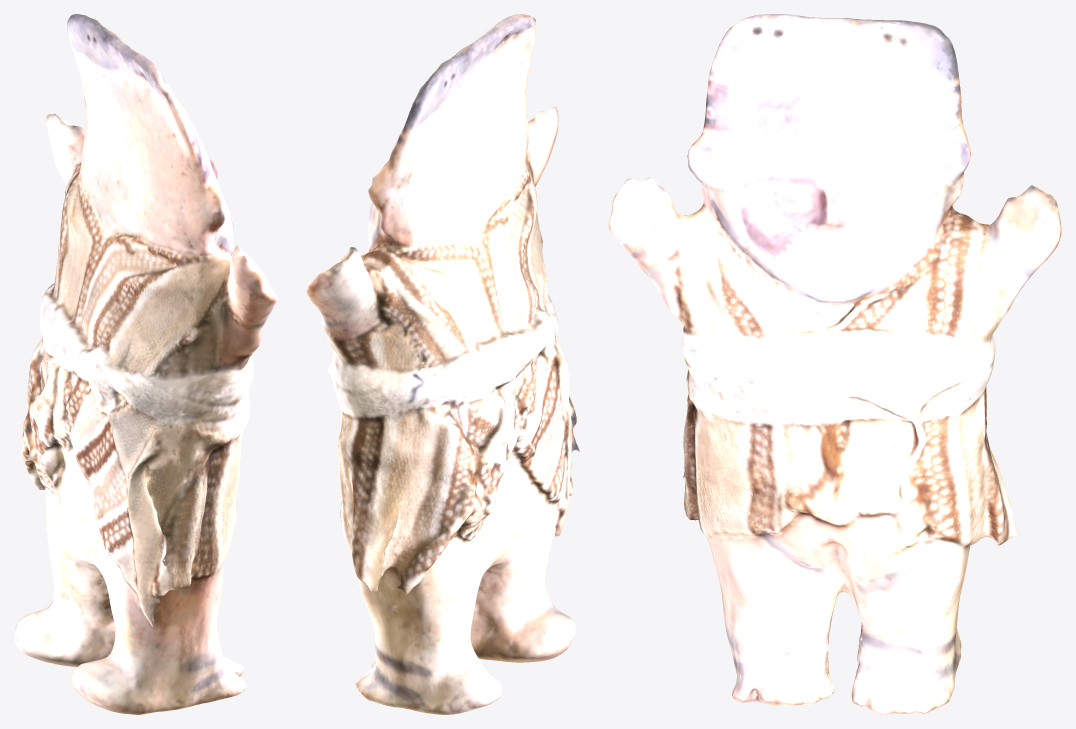
The picture shows the model from 3 angles, left to right: view 1: azimuth 30°, elevation 25°; view 2: azimuth 150°, elevation 25°; view 3: azimuth 270°, elevation 25°; orthographic projection. The views are drawn at different scales.
Parts seen in each view (by area): view 1: Object_2; view 2: Object_2; view 3: Object_2.
Part boxes in pixels (<box>): Object_2: <box>14,14,277,714</box>; Object_2: <box>306,14,579,714</box>; Object_2: <box>608,14,1061,714</box>.
Size of the model in its own units: 0.6258 by 2.26 by 1.39.
